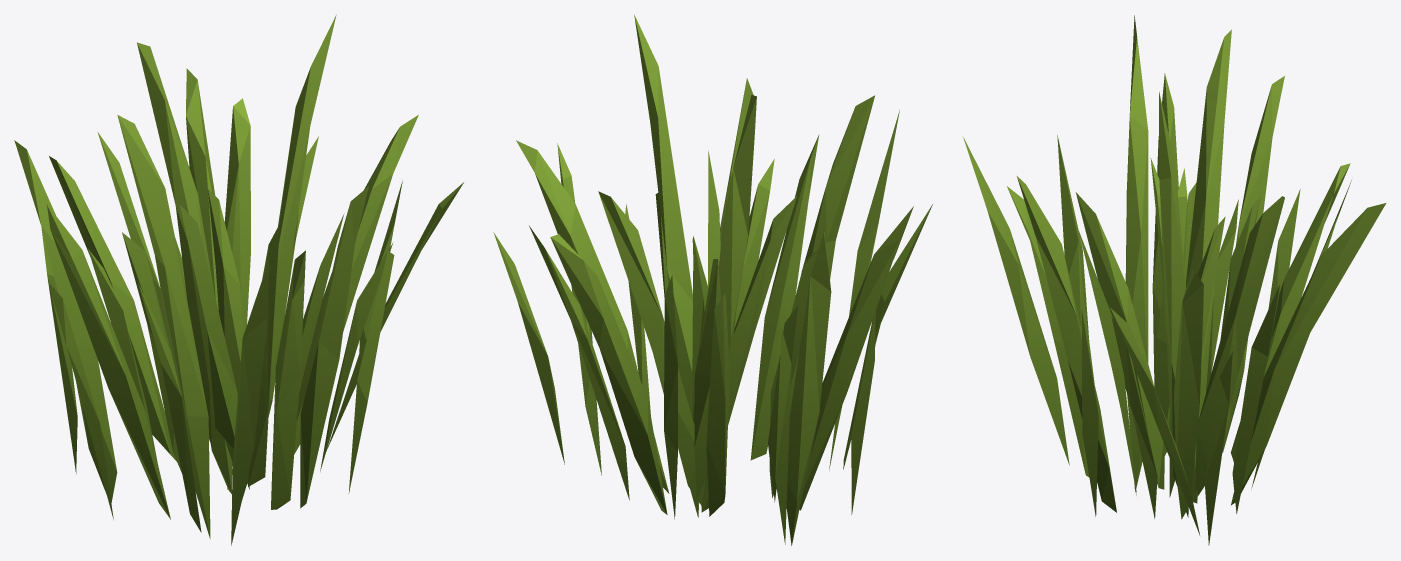
The model's file is ZLP_Grass_A_10.FBX.
3 renders of one model, left to right at view 1: azimuth 30°, elevation 25°; view 2: azimuth 150°, elevation 25°; view 3: azimuth 270°, elevation 25°, orthographic. The views are drawn at different scales.
Parts seen in each view (by area): view 1: ZLP_Grass_A_10; view 2: ZLP_Grass_A_10; view 3: ZLP_Grass_A_10.
Boxes of the visible parts, x1,y1,x2,y2 form: ZLP_Grass_A_10: (14,14,463,545); ZLP_Grass_A_10: (493,14,932,545); ZLP_Grass_A_10: (963,15,1386,545).
Bounding box in the file's own units: 101 × 119 × 97.97.
